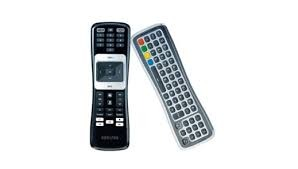remote control: (133, 22, 214, 153), (90, 22, 131, 151)
